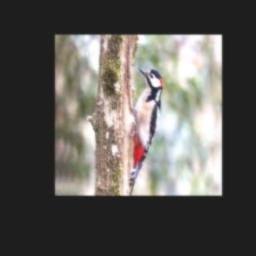Woodpecker: (129, 66, 163, 196)
